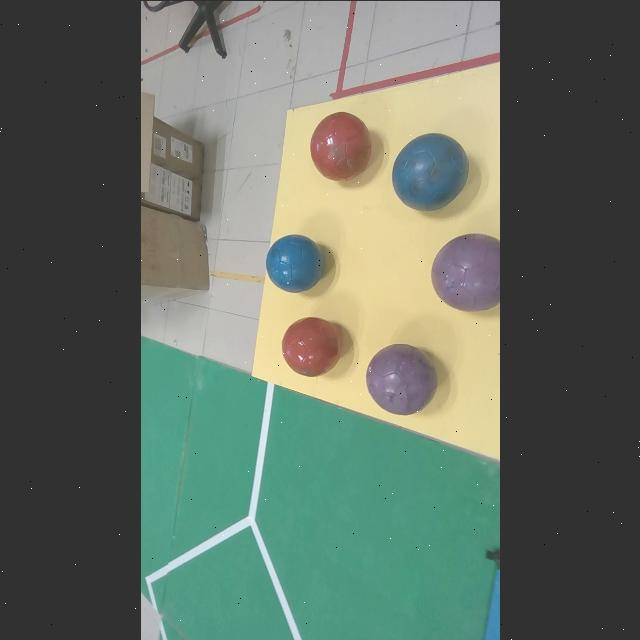B: (392, 132, 468, 210), (265, 234, 323, 292)
P: (431, 233, 500, 310), (366, 343, 437, 414)
R: (310, 111, 370, 178), (281, 316, 341, 376)
